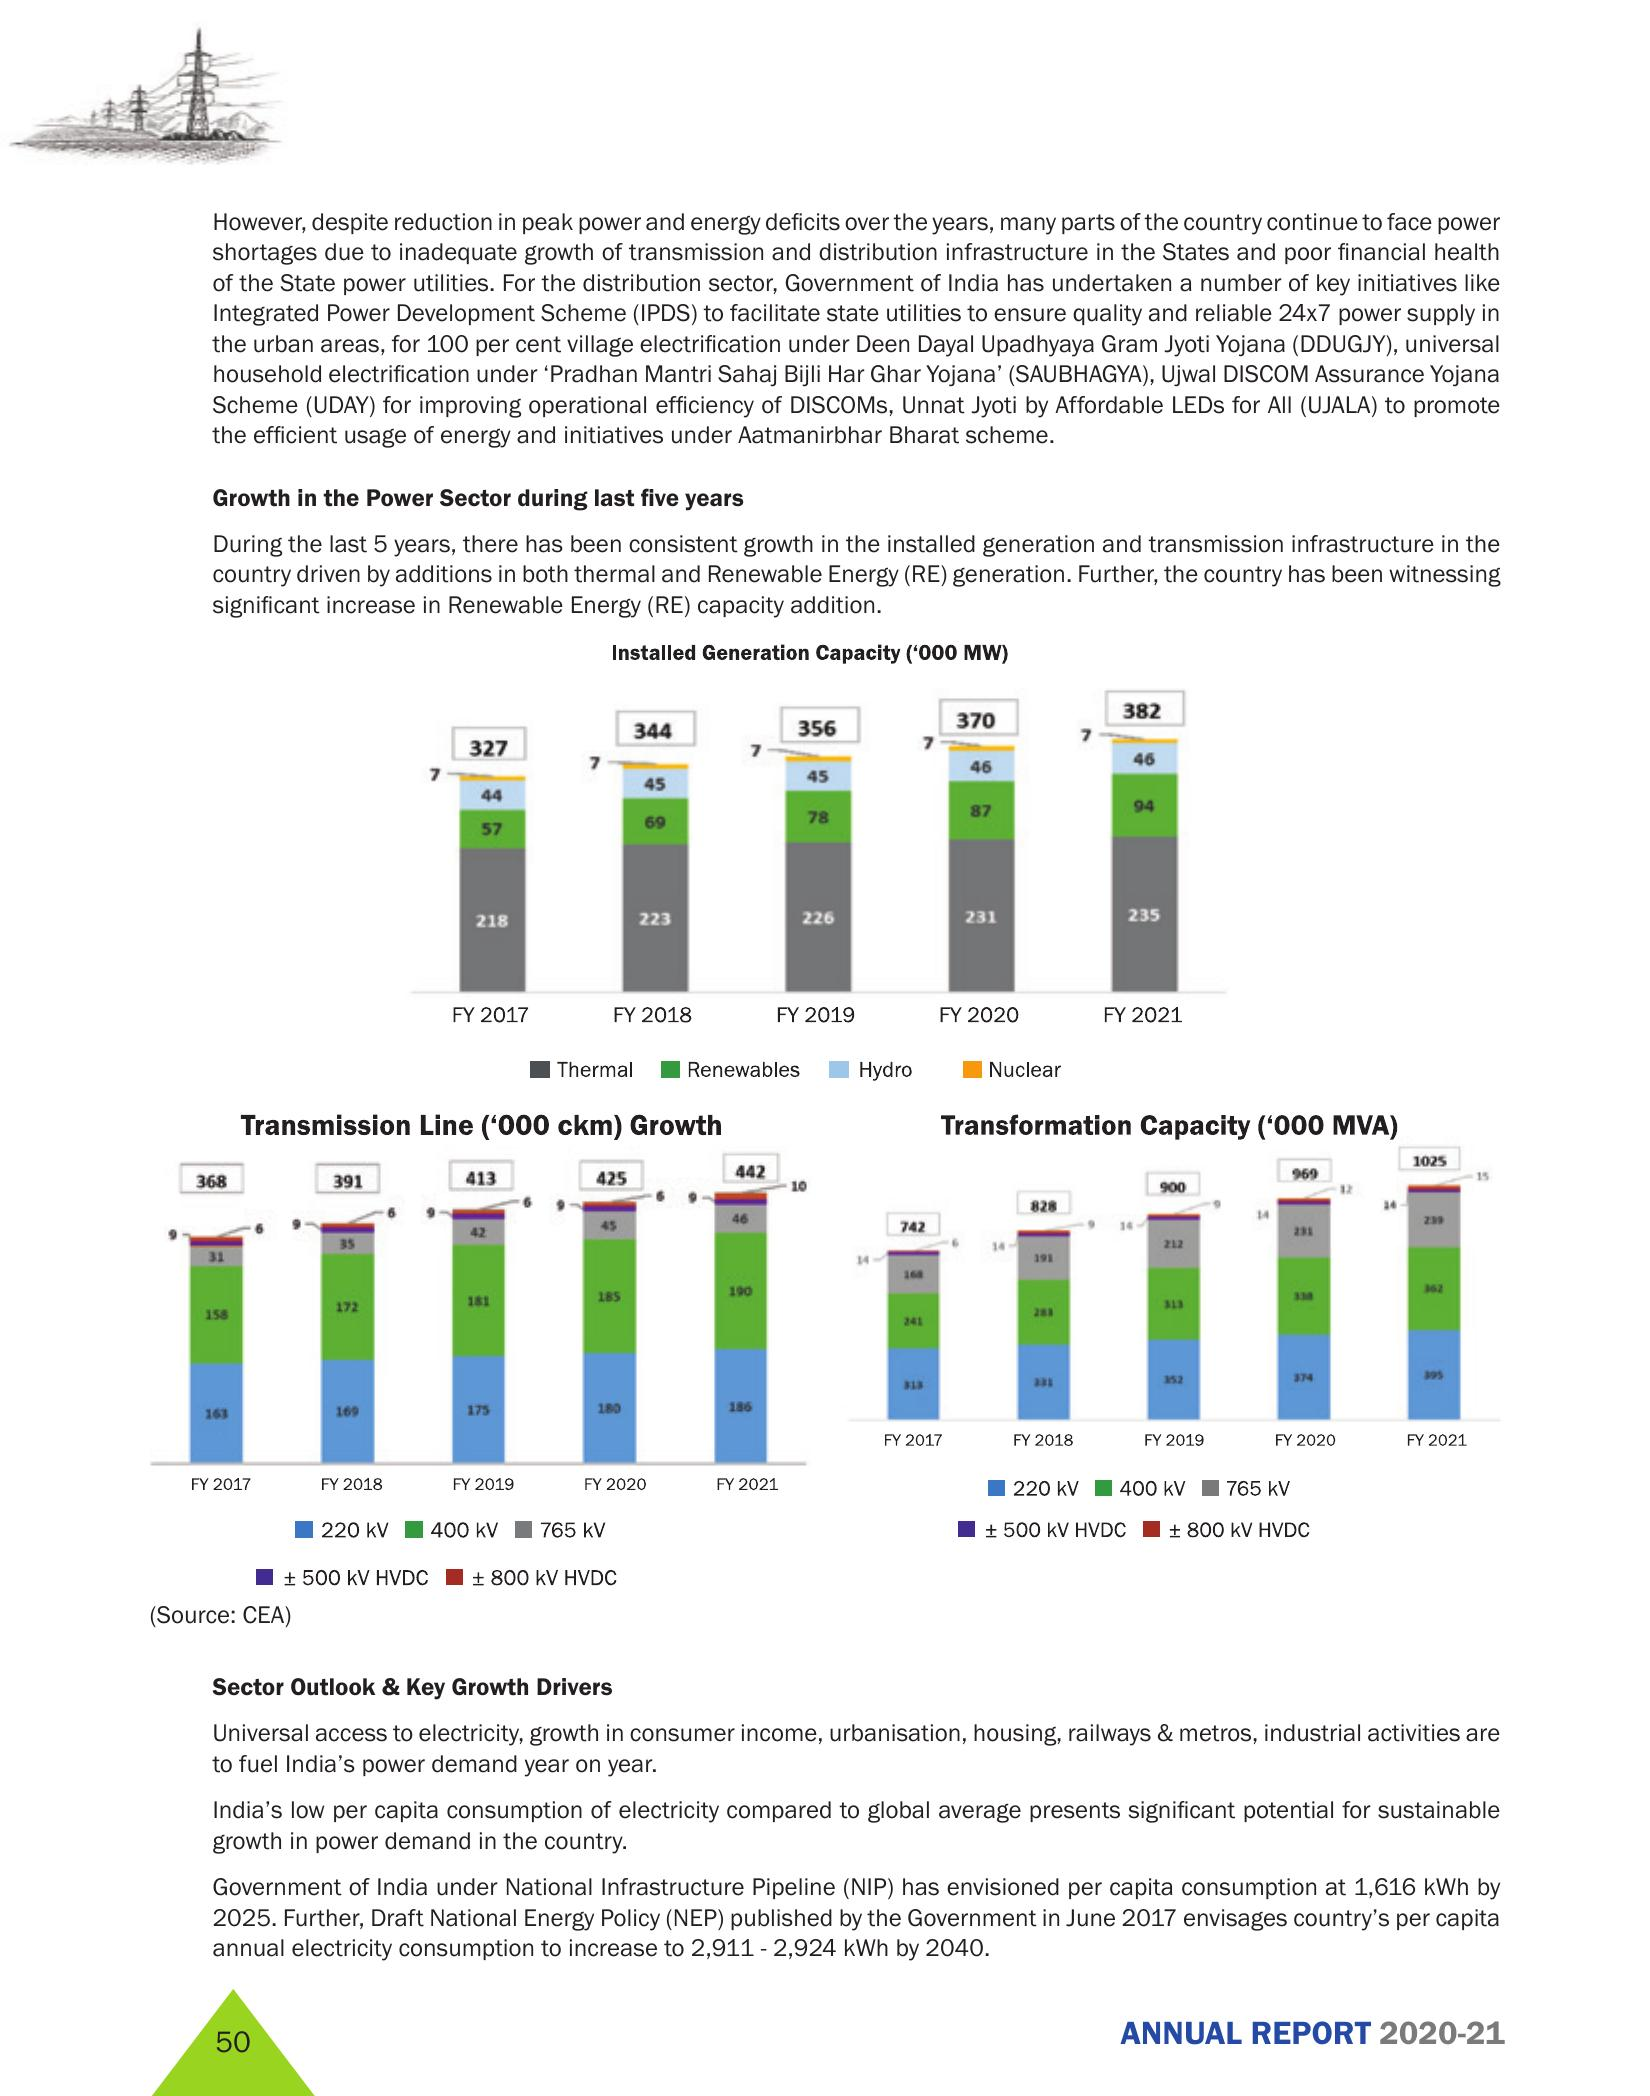Footer: (0, 1979, 1650, 2096)
Header: (0, 0, 1650, 172)
Image: (318, 636, 1300, 1079), (105, 1102, 837, 1586), (869, 1099, 1511, 1586)
